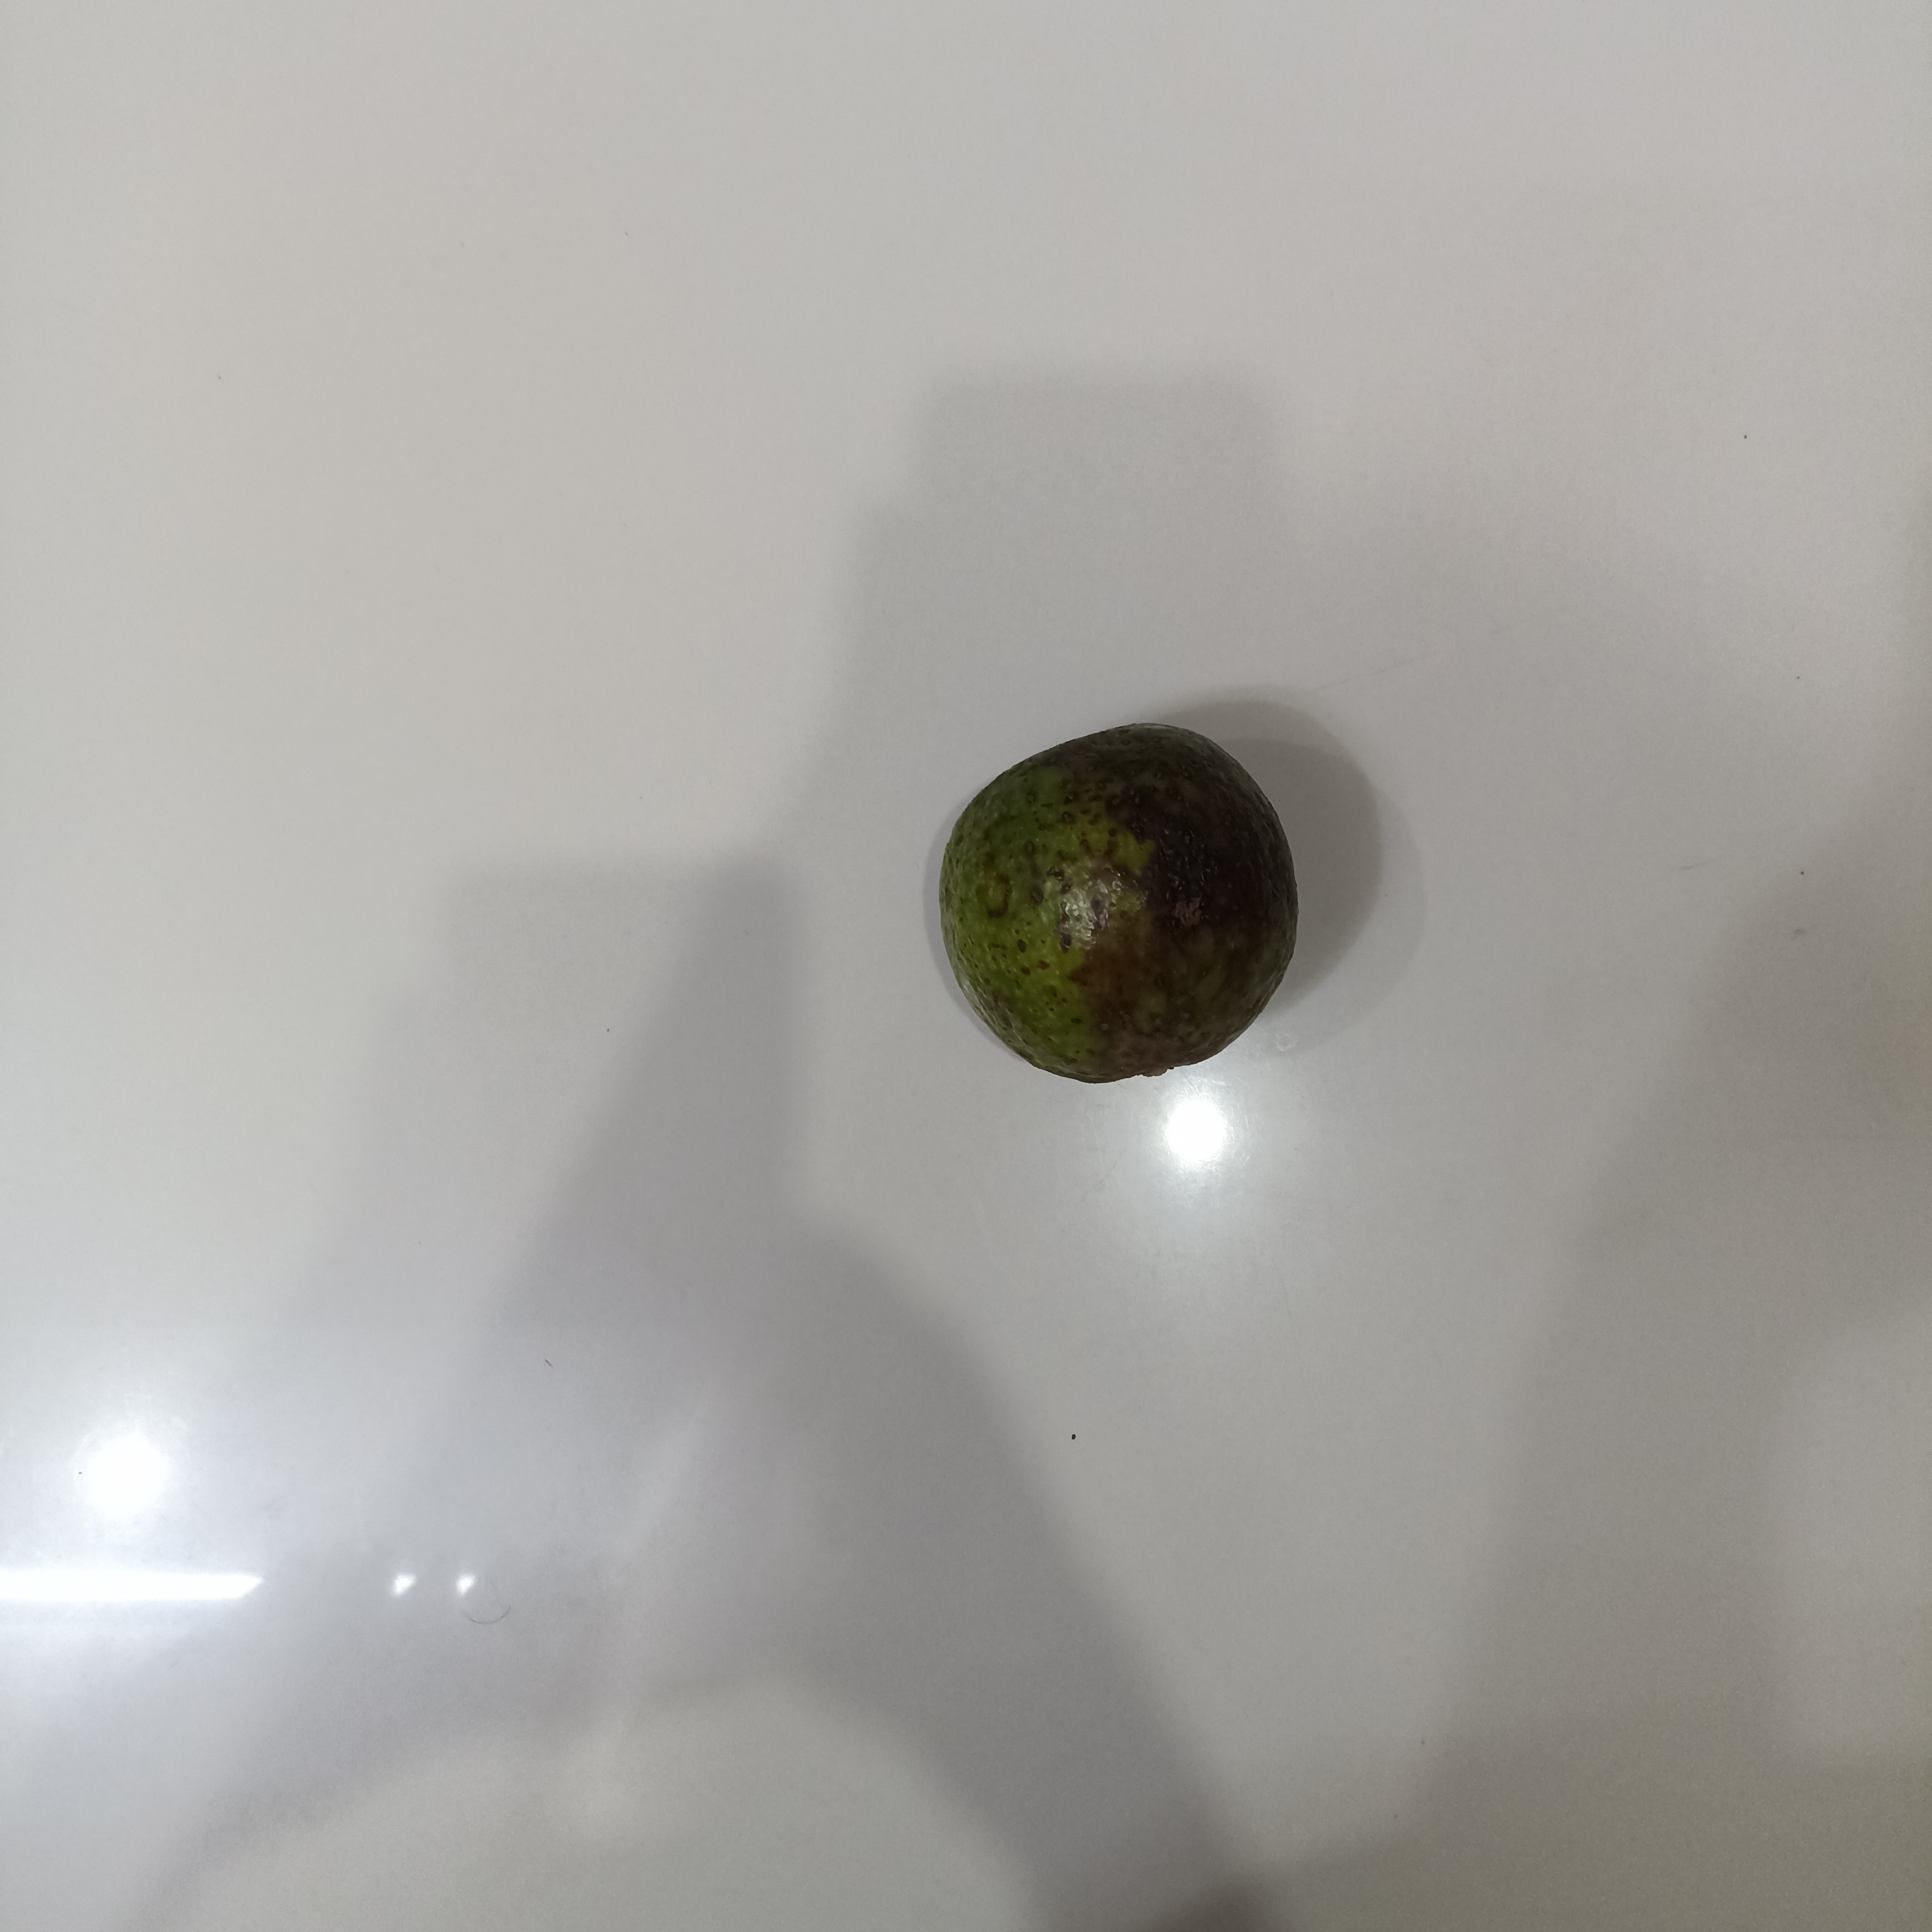Bo: (938, 722, 1306, 1088)
